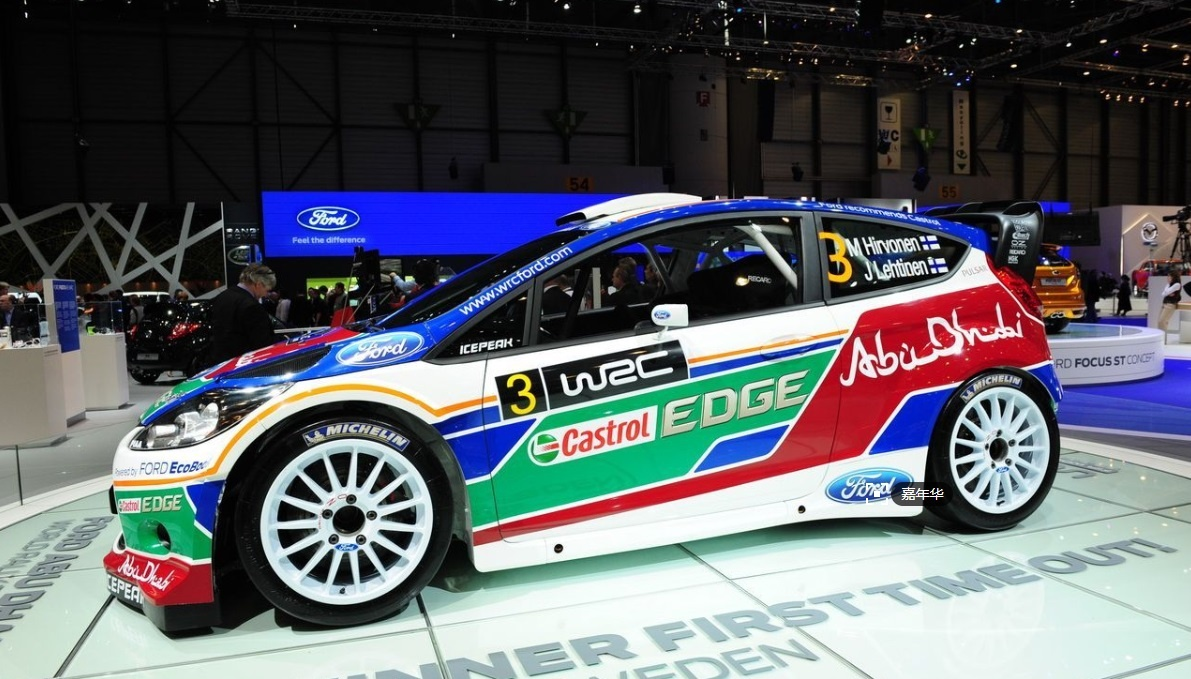racing car: (89, 152, 1080, 629)
